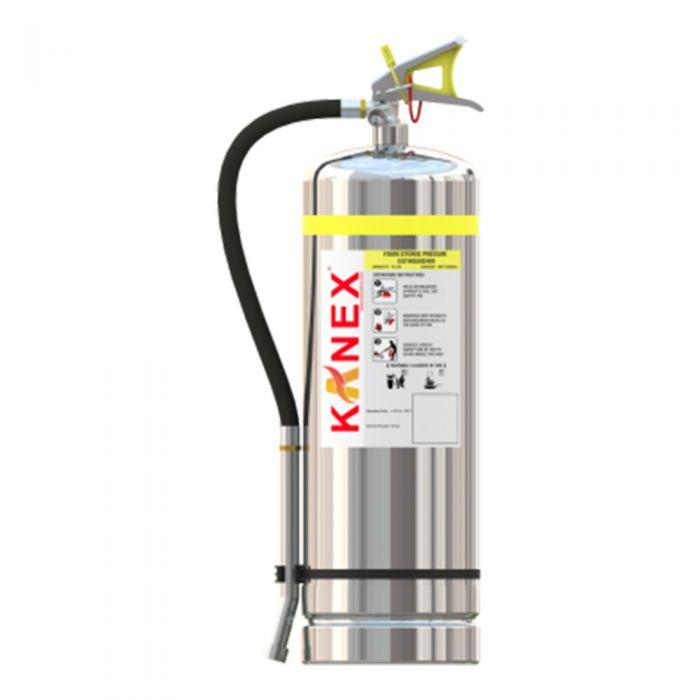Fire Extinguisher: (200, 18, 536, 684)
